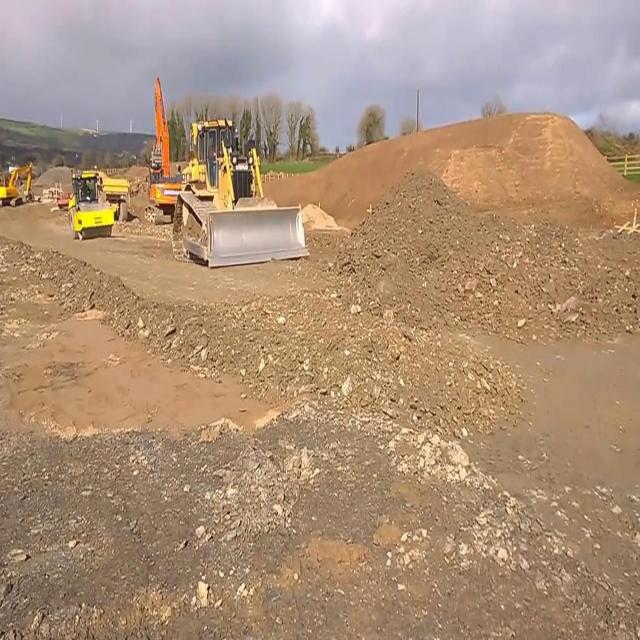Excavator: (146, 70, 186, 222), (0, 164, 32, 209)
Roller: (66, 164, 114, 240)
